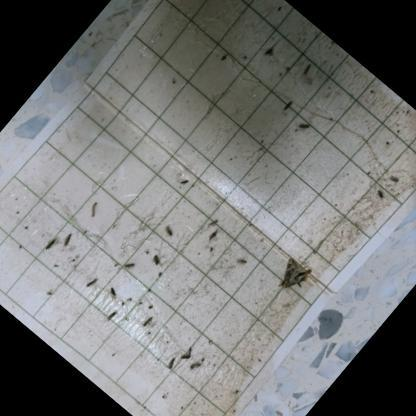prays_oleae: (288, 114, 319, 148), (132, 312, 158, 338), (156, 217, 181, 243), (186, 352, 211, 378), (158, 352, 182, 378), (368, 185, 392, 209), (176, 340, 198, 366), (144, 246, 167, 270), (100, 282, 122, 307), (55, 230, 77, 254), (116, 254, 139, 276), (100, 306, 122, 328), (297, 58, 318, 80), (173, 173, 193, 194), (81, 272, 100, 292), (204, 212, 223, 232), (204, 228, 221, 245)
